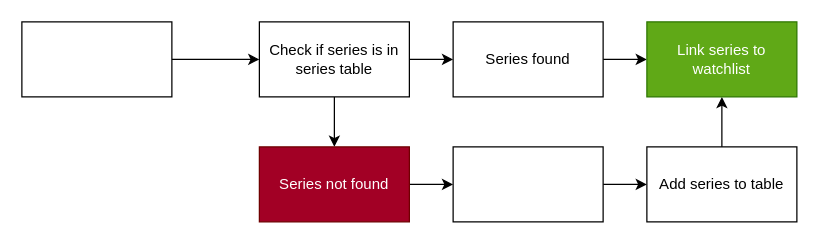
Image size: 819x244. Some labels were removed from this diagram. Here are the shapes that lost their labels. From the top down, the box of each, then its label:
(21, 21, 172, 97): User adds series to their watchlist
(452, 146, 603, 222): Query provider and id, error if invalid
